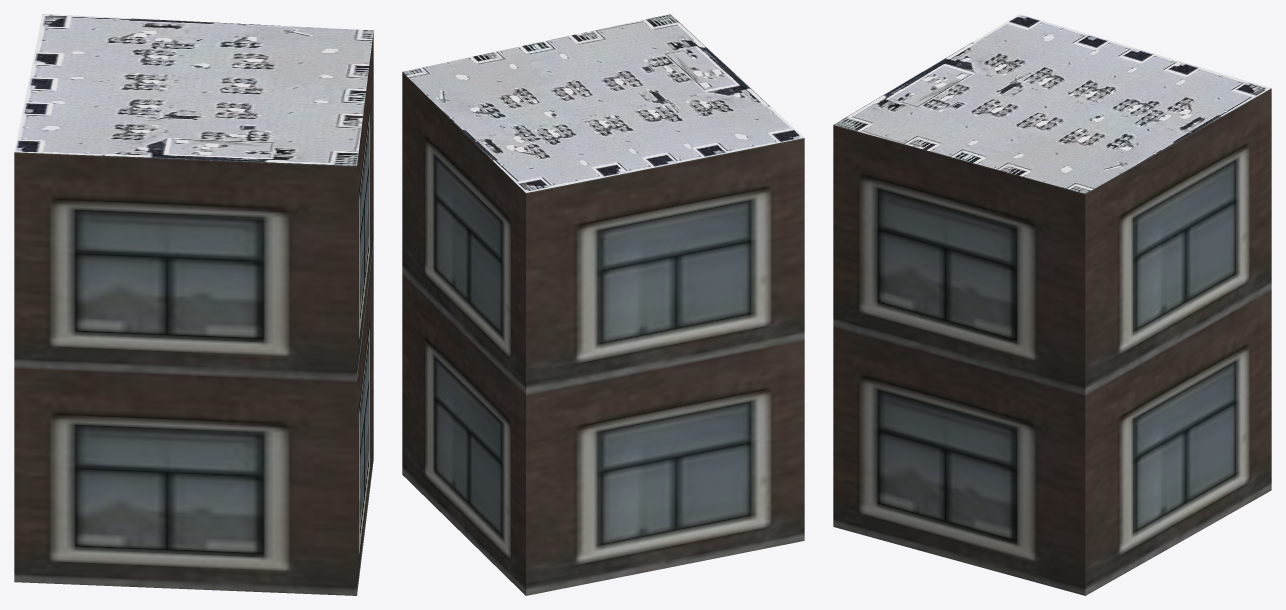
File: ResTex__1738.fbx
The picture shows the model from 3 angles, left to right: view 1: azimuth 30°, elevation 25°; view 2: azimuth 150°, elevation 25°; view 3: azimuth 270°, elevation 25°; orthographic projection. The views are drawn at different scales.
Visible parts, largest first — view 1: CityEngineMaterial_16_m, CityEngineMaterial_15_m; view 2: CityEngineMaterial_16_m, CityEngineMaterial_15_m; view 3: CityEngineMaterial_16_m, CityEngineMaterial_15_m.
Part boxes in pixels (x1,y1,x2,y2): CityEngineMaterial_16_m: (14,32,373,595); CityEngineMaterial_15_m: (14,14,373,165); CityEngineMaterial_16_m: (402,72,804,595); CityEngineMaterial_15_m: (402,14,803,192); CityEngineMaterial_16_m: (833,88,1271,595); CityEngineMaterial_15_m: (833,14,1271,193).
Bounding box in the file's own units: 5.76 × 6 × 5.93.
2 materials, 2 textured.
